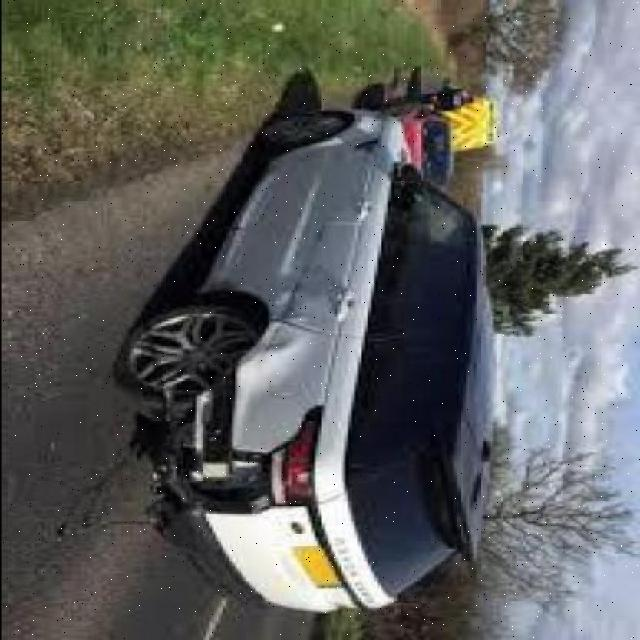damage: (136, 277, 304, 527)
